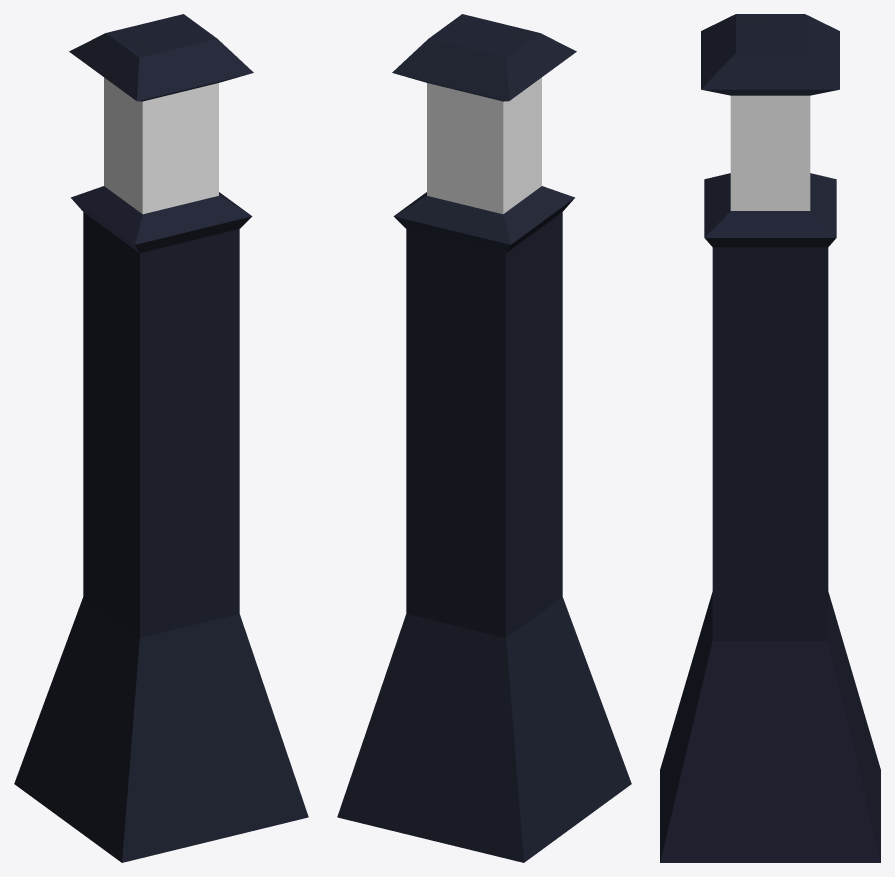
File: lamppost.glb
The picture shows the model from 3 angles, left to right: view 1: azimuth 30°, elevation 25°; view 2: azimuth 150°, elevation 25°; view 3: azimuth 270°, elevation 25°; orthographic projection. The views are drawn at different scales.
Visible parts, largest first — view 1: Cube; view 2: Cube; view 3: Cube.
Part boxes in pixels (bbox=[...]): Cube: bbox=[14, 14, 308, 862]; Cube: bbox=[337, 14, 631, 862]; Cube: bbox=[660, 14, 880, 862].
Bounding box in the file's own units: 2 × 7.82 × 2.
Materials: 1 (1 with a texture image).
